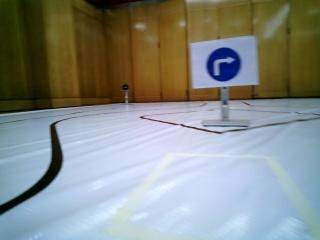right: (192, 44, 260, 86)
